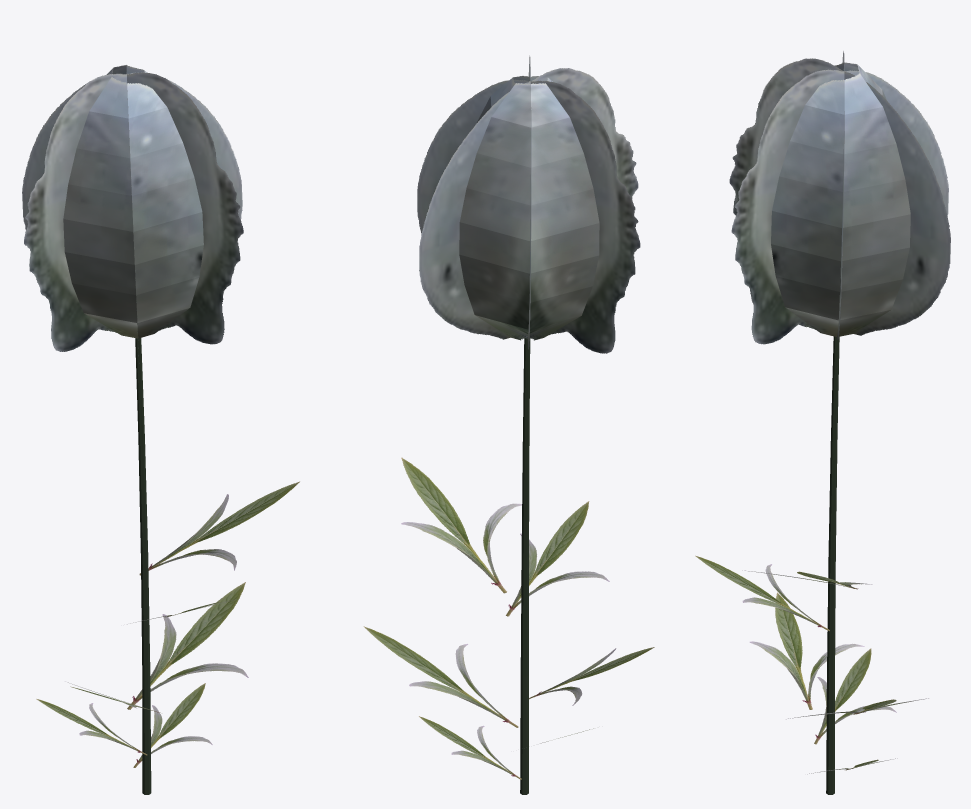
Rendered from category_mesh_flower_5_v1.glb.
3 views of the same model, side by side, from view 1: azimuth 30°, elevation 25°; view 2: azimuth 150°, elevation 25°; view 3: azimuth 270°, elevation 25° (orthographic).
Parts seen in each view (by area): view 1: category_mesh_flower_5_v1; view 2: category_mesh_flower_5_v1; view 3: category_mesh_flower_5_v1.
Part boxes in pixels (<box>): category_mesh_flower_5_v1: <box>22,65,299,794</box>; category_mesh_flower_5_v1: <box>363,55,654,794</box>; category_mesh_flower_5_v1: <box>695,51,950,794</box>.
Size of the model in its own units: 0.1777 by 0.4468 by 0.1473.
Materials: 1 (1 with a texture image).
